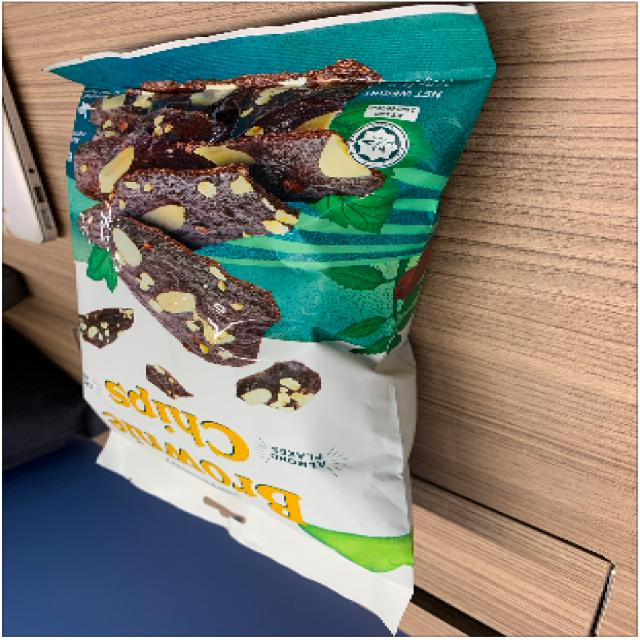object_name: (80, 59, 408, 545)
